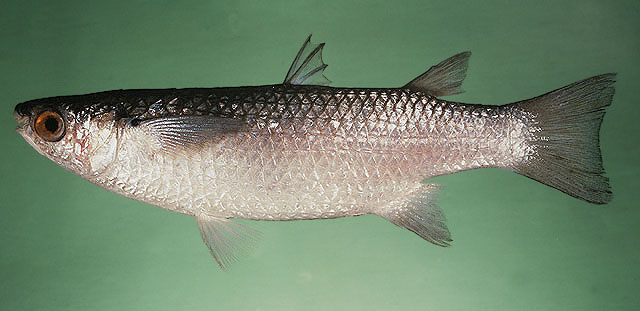fish: (13, 32, 620, 273)
